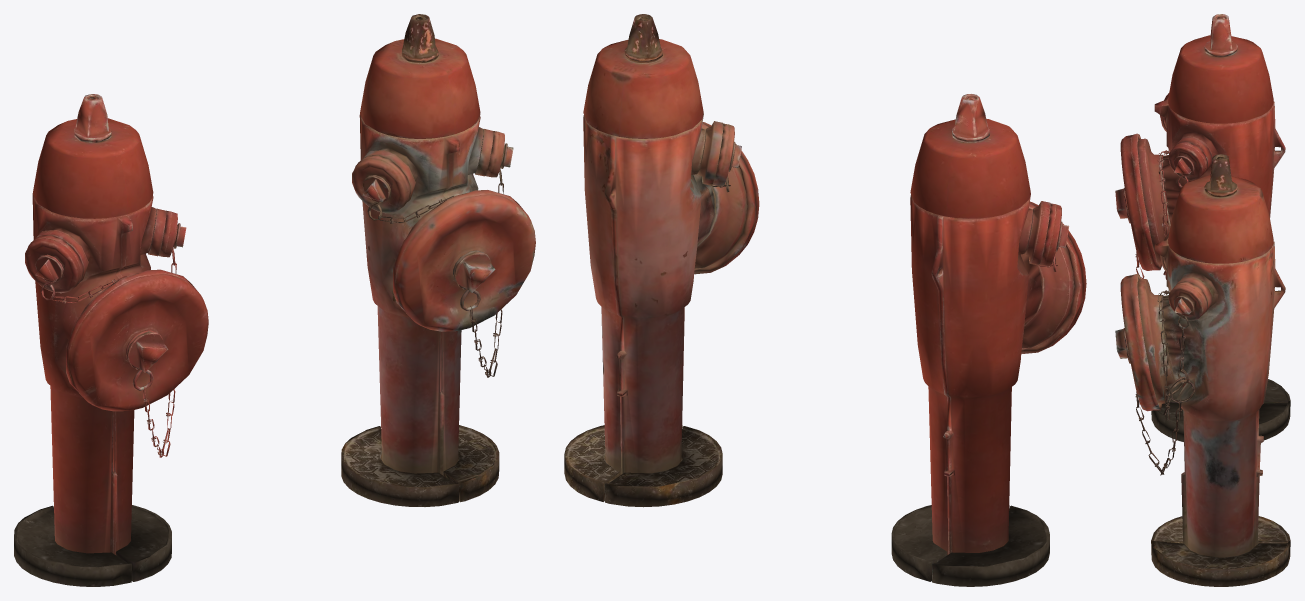
File: fire-hydrant.glb
3 views of the same model, side by side, from view 1: azimuth 30°, elevation 25°; view 2: azimuth 150°, elevation 25°; view 3: azimuth 270°, elevation 25° (orthographic). The views are drawn at different scales.
Parts seen in each view (by area): view 1: fire_hydrant_aged, fire_hydrant, fire_hydrant_cap_01, fire_hydrant_cap_01_aged, fire_hydrant_cap_03_aged, fire_hydrant_cap_03, fire_hydrant_chain_aged, fire_hydrant_chain, fire_hydrant_cap_02_aged, fire_hydrant_cap_02; view 2: fire_hydrant, fire_hydrant_aged, fire_hydrant_cap_01, fire_hydrant_cap_01_aged, fire_hydrant_cap_03, fire_hydrant_cap_03_aged; view 3: fire_hydrant_aged, fire_hydrant, fire_hydrant_cap_01_aged, fire_hydrant_cap_01, fire_hydrant_chain_aged, fire_hydrant_cap_02, fire_hydrant_cap_02_aged, fire_hydrant_chain.
Part boxes in pixels (bbox=[...]): fire_hydrant_aged: bbox=[341, 14, 499, 506]; fire_hydrant: bbox=[14, 94, 171, 586]; fire_hydrant_cap_01: bbox=[66, 269, 208, 411]; fire_hydrant_cap_01_aged: bbox=[393, 190, 535, 331]; fire_hydrant_cap_03_aged: bbox=[352, 155, 410, 213]; fire_hydrant_cap_03: bbox=[25, 235, 83, 293]; fire_hydrant_chain_aged: bbox=[367, 145, 504, 377]; fire_hydrant_chain: bbox=[40, 224, 177, 457]; fire_hydrant_cap_02_aged: bbox=[485, 131, 513, 177]; fire_hydrant_cap_02: bbox=[158, 210, 186, 257]; fire_hydrant: bbox=[891, 94, 1074, 586]; fire_hydrant_aged: bbox=[564, 14, 747, 507]; fire_hydrant_cap_01: bbox=[1021, 201, 1086, 353]; fire_hydrant_cap_01_aged: bbox=[694, 122, 759, 274]; fire_hydrant_cap_03: bbox=[1039, 203, 1069, 266]; fire_hydrant_cap_03_aged: bbox=[712, 123, 741, 186]; fire_hydrant_aged: bbox=[1138, 154, 1290, 586]; fire_hydrant: bbox=[1138, 14, 1290, 441]; fire_hydrant_cap_01_aged: bbox=[1115, 273, 1161, 411]; fire_hydrant_cap_01: bbox=[1115, 133, 1161, 270]; fire_hydrant_chain_aged: bbox=[1135, 290, 1195, 475]; fire_hydrant_cap_02: bbox=[1168, 141, 1207, 180]; fire_hydrant_cap_02_aged: bbox=[1168, 281, 1207, 320]; fire_hydrant_chain: bbox=[1135, 150, 1193, 279].
Bounding box in the file's own units: 0.8745 × 0.7994 × 0.3173.
2 materials, 2 textured.
